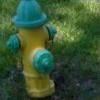Hydrant: (5, 1, 64, 93)
